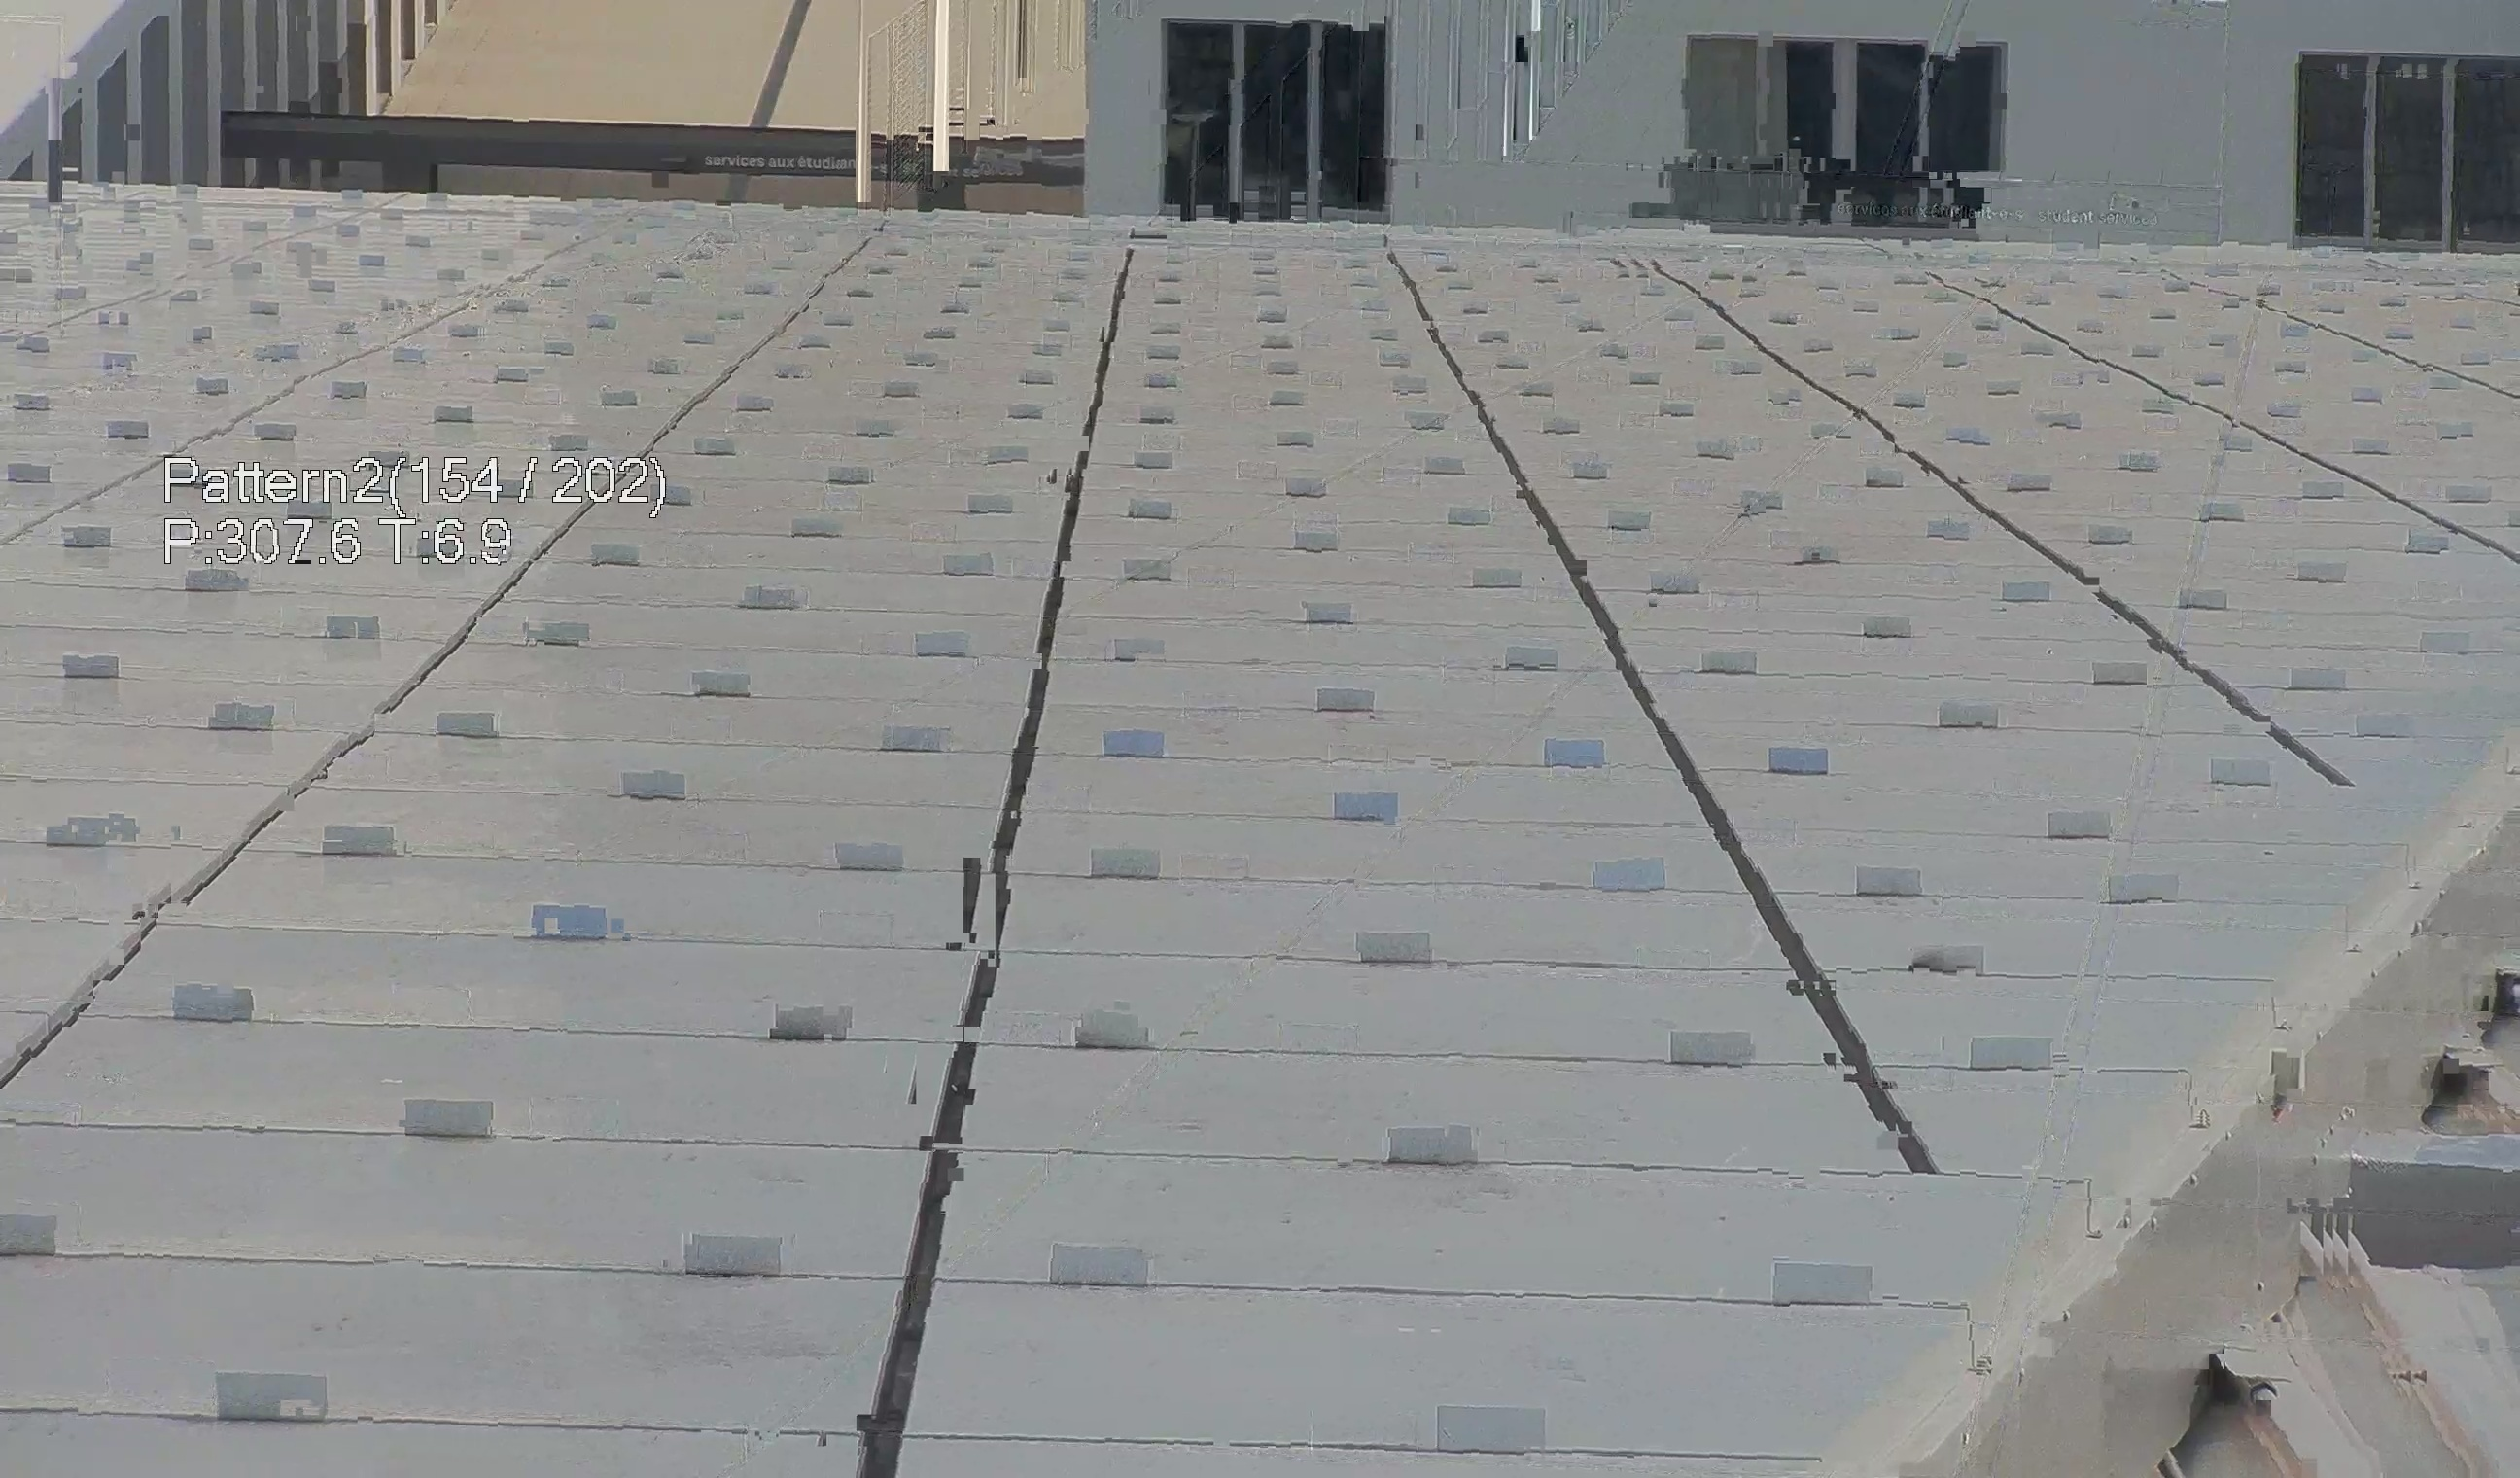Other: (2182, 1344, 2320, 1478)
